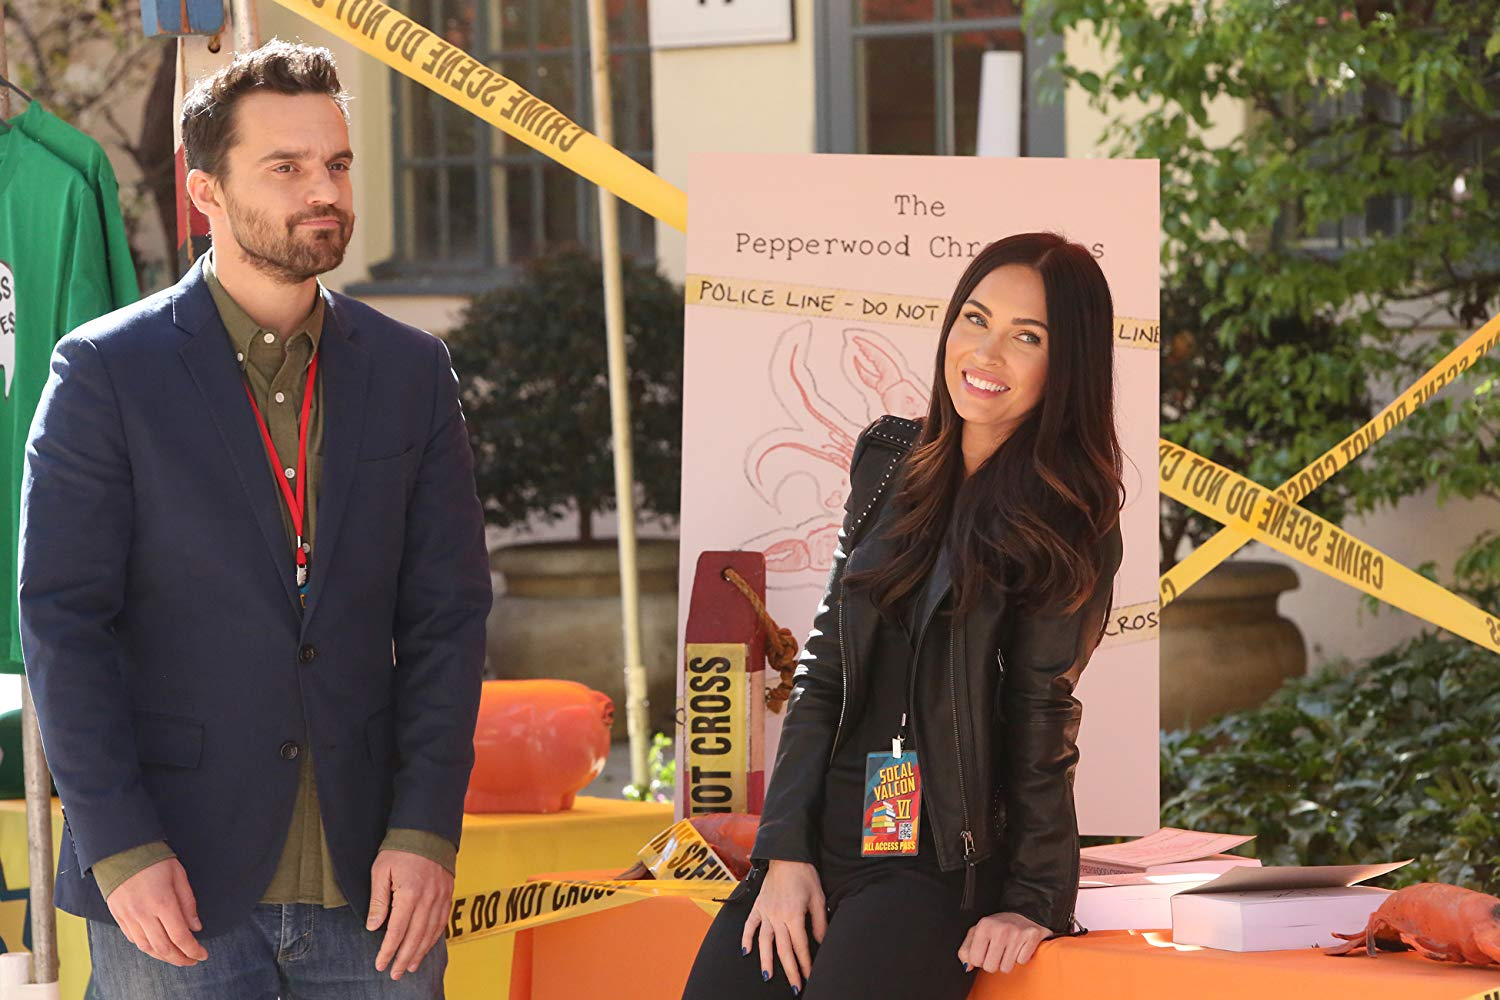person: (13, 39, 479, 1000), (687, 226, 1118, 991)
